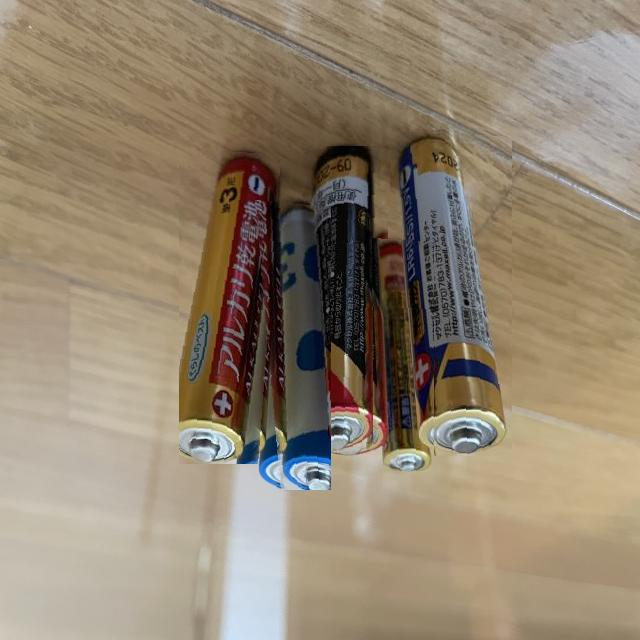battery: (392, 129, 512, 456), (179, 148, 281, 464), (303, 146, 392, 458), (255, 200, 331, 490), (372, 238, 434, 471)
